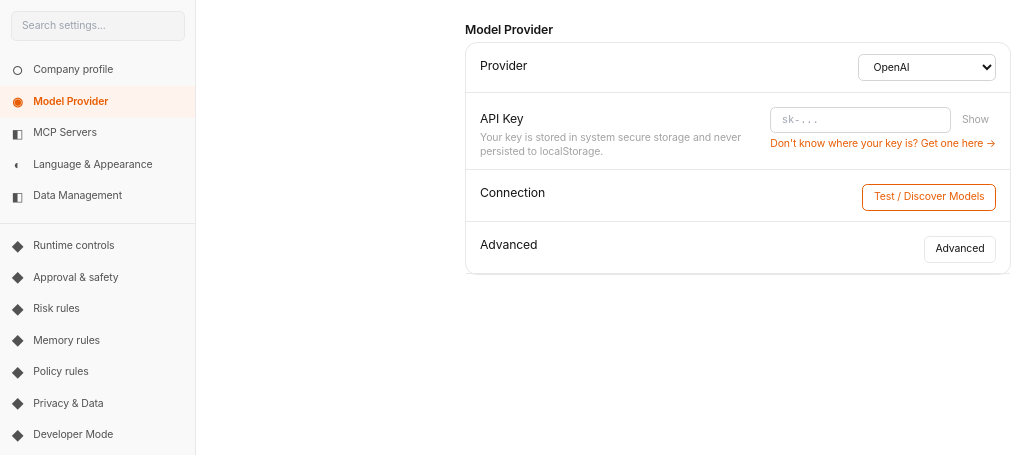
Test case: Desktop onboarding › does not mark the model provider configured when model config save fails
Click the button "Test / Discover Models": {"x": 929, "y": 197} [862,184,996,211]
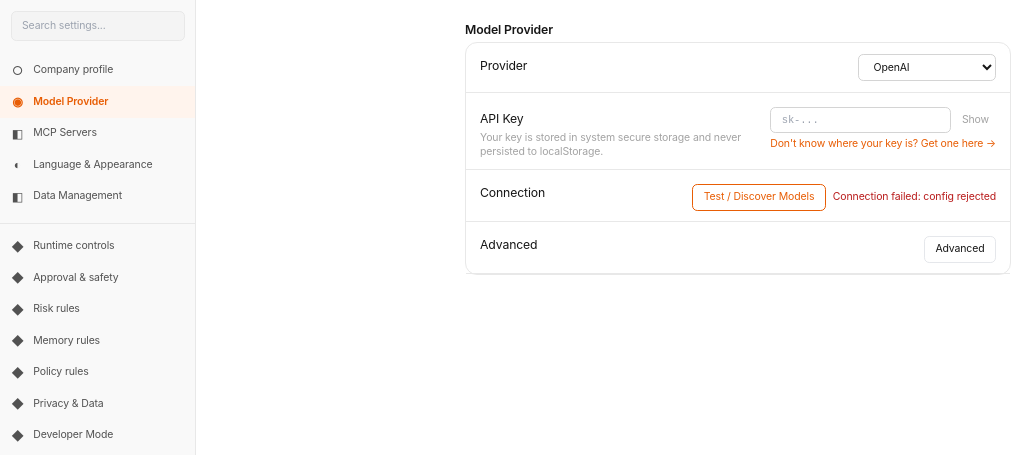
Check: the text "Connection failed: config rejected" is shown, box [833,190,996,204]
